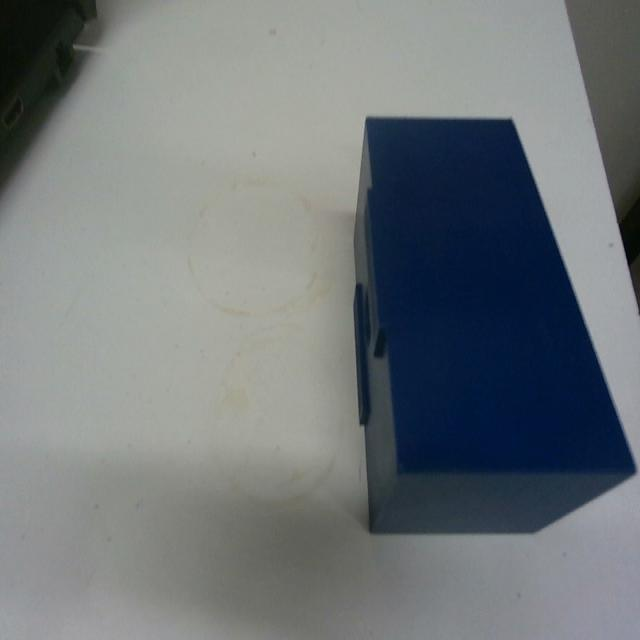Blue Cuboid: (350, 111, 636, 536)
